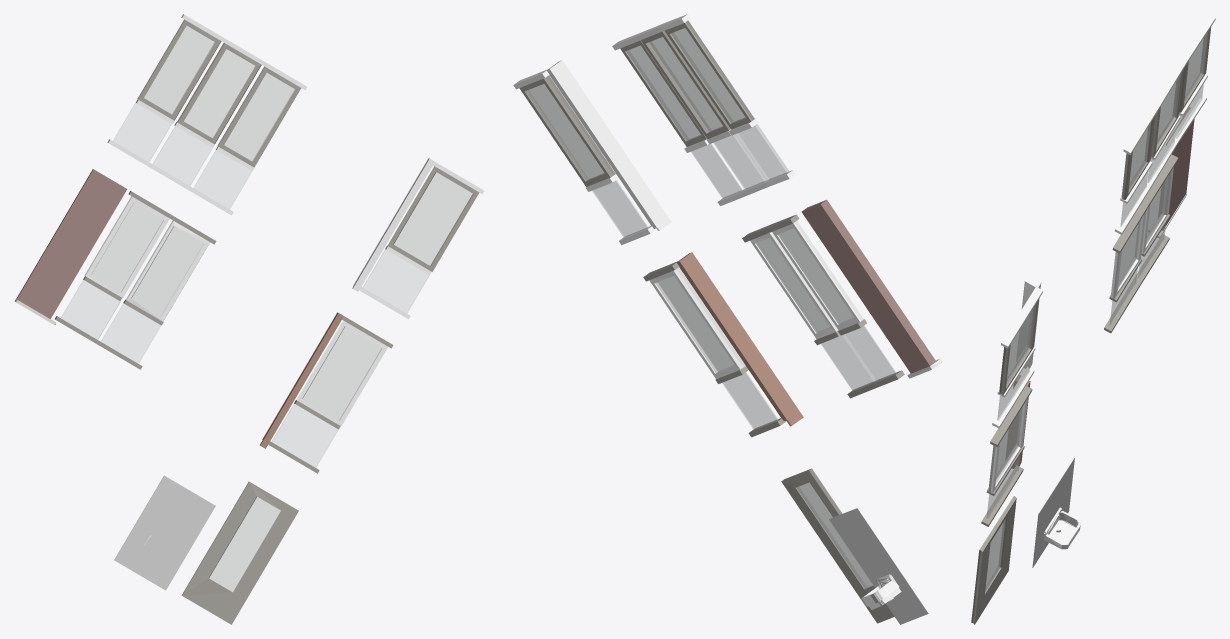
The picture shows the model from 3 angles, left to right: view 1: azimuth 30°, elevation 25°; view 2: azimuth 150°, elevation 25°; view 3: azimuth 270°, elevation 25°; orthographic projection. The views are drawn at different scales.
Parts seen in each view (by area): view 1: mesh; view 2: mesh; view 3: mesh.
Part boxes in pixels (<box>): mesh: <box>14,14,484,624</box>; mesh: <box>513,14,942,624</box>; mesh: <box>971,14,1215,624</box>.
Size of the model in its own units: 7.71 by 9.75 by 3.37.
